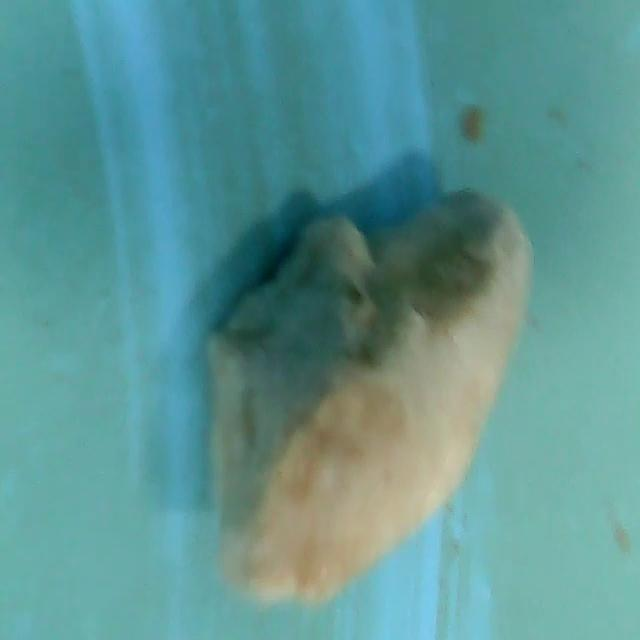rock: (199, 179, 543, 633)
